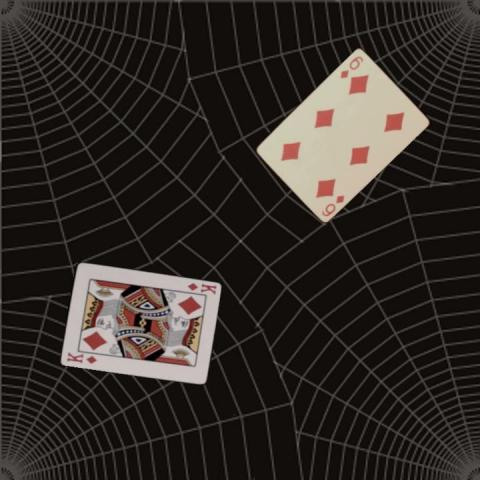6d: (337, 53, 365, 79), (319, 192, 346, 217)
Kd: (63, 349, 98, 366), (184, 280, 217, 296)
